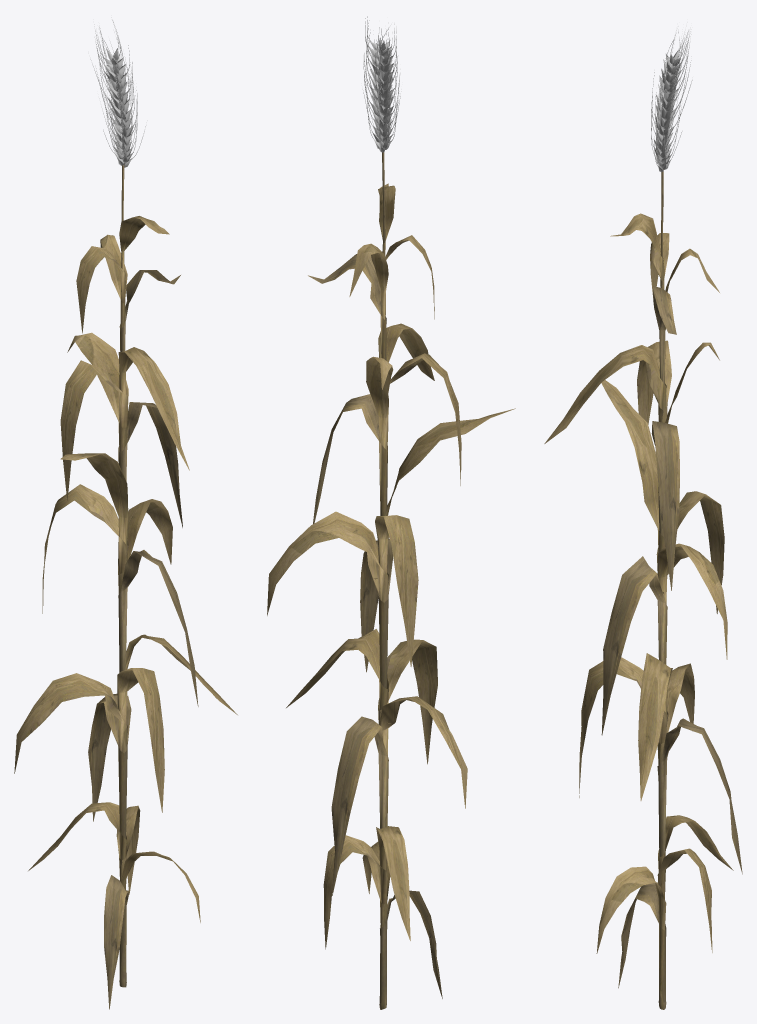
The model's file is SM_Plant_05.fbx.
The picture shows the model from 3 angles, left to right: view 1: azimuth 30°, elevation 25°; view 2: azimuth 150°, elevation 25°; view 3: azimuth 270°, elevation 25°; orthographic projection. The views are drawn at different scales.
Visible parts, largest first — view 1: SM_Plant_05; view 2: SM_Plant_05; view 3: SM_Plant_05.
Boxes of the visible parts, <box> form: SM_Plant_05: <box>14,17,237,1009</box>; SM_Plant_05: <box>267,16,515,1009</box>; SM_Plant_05: <box>544,22,742,1009</box>.
Bounding box in the file's own units: 34.57 × 29.15 × 160.
